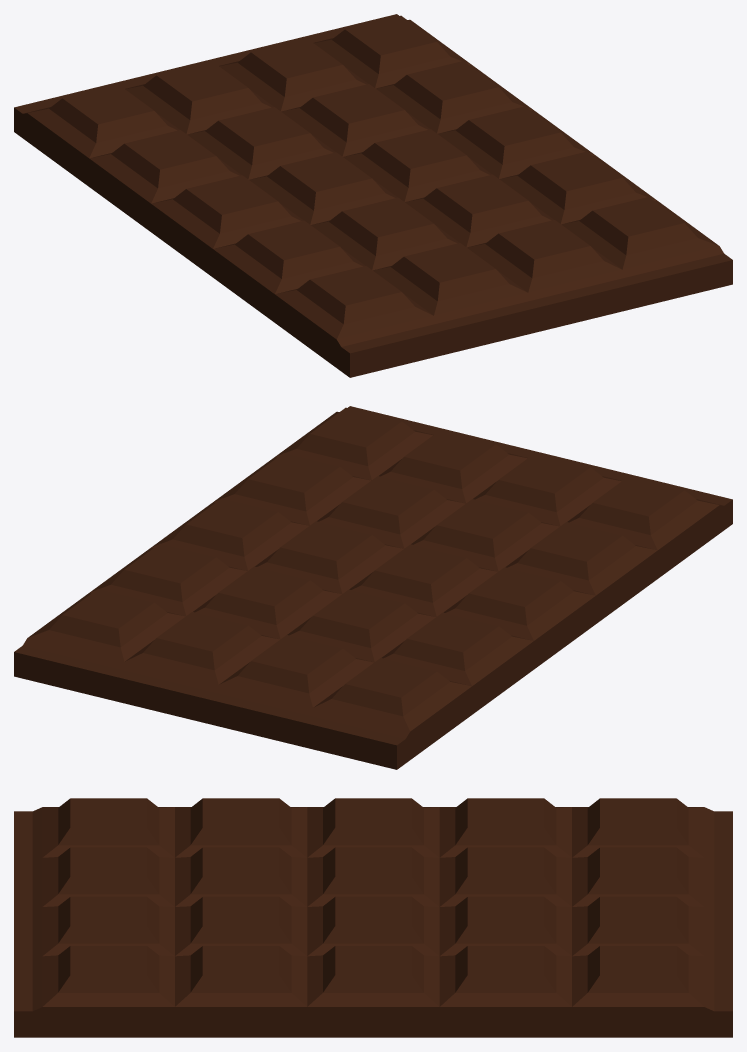
Rendered from ChocolateBar.obj.
The picture shows the model from 3 angles, top to bottom: view 1: azimuth 30°, elevation 25°; view 2: azimuth 150°, elevation 25°; view 3: azimuth 270°, elevation 25°; orthographic projection. The views are drawn at different scales.
Visible parts, largest first — view 1: ChocolateBar; view 2: ChocolateBar; view 3: ChocolateBar.
Part boxes in pixels (bbox=[...]): ChocolateBar: bbox=[14, 14, 732, 377]; ChocolateBar: bbox=[14, 406, 732, 769]; ChocolateBar: bbox=[14, 798, 732, 1037].
Size of the model in its own units: 0.5752 by 0.0683 by 0.8742.
